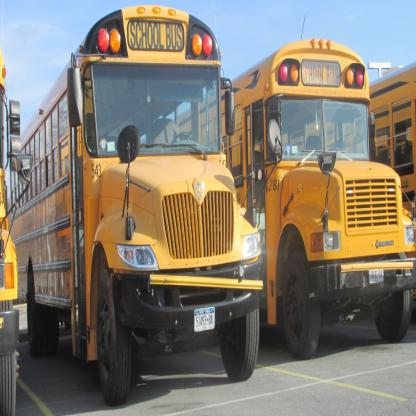Bus: (10, 3, 284, 384), (168, 32, 416, 354), (283, 61, 415, 280), (0, 40, 37, 415)
